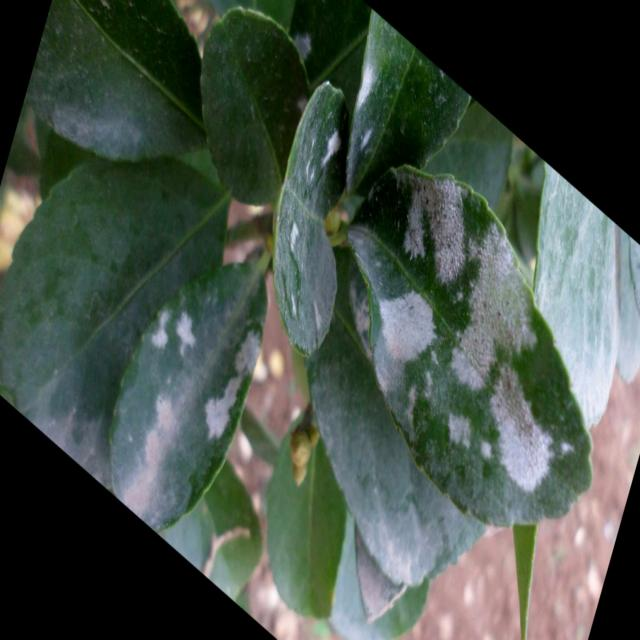Powdery Mildew: (346, 162, 594, 529)
